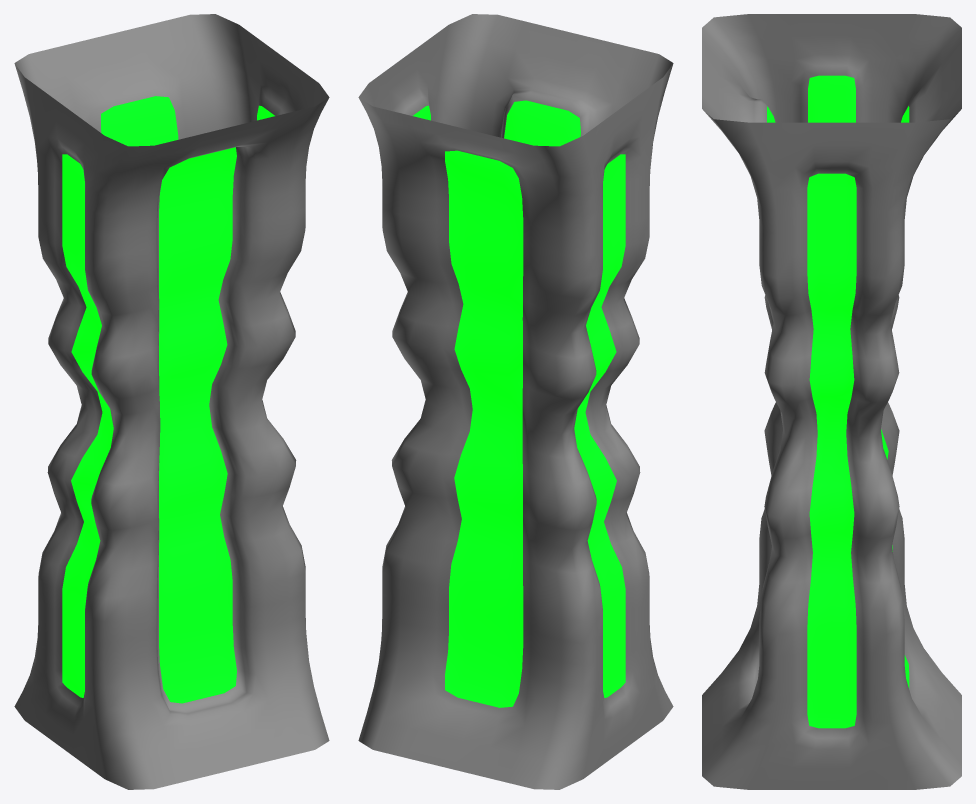
File: Pillar.fbx
3 views of the same model, side by side, from view 1: azimuth 30°, elevation 25°; view 2: azimuth 150°, elevation 25°; view 3: azimuth 270°, elevation 25° (orthographic). The views are drawn at different scales.
Visible parts, largest first — view 1: Box006; view 2: Box006; view 3: Box006.
Part boxes in pixels (bbox=[...]): Box006: bbox=[14, 14, 329, 789]; Box006: bbox=[358, 14, 673, 789]; Box006: bbox=[702, 14, 961, 789].
Bounding box in the file's own units: 276 × 791 × 279.
